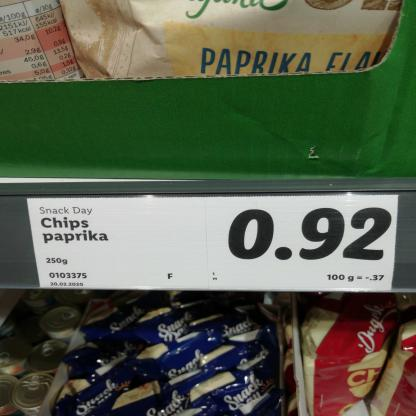prtg: (27, 196, 399, 291)
